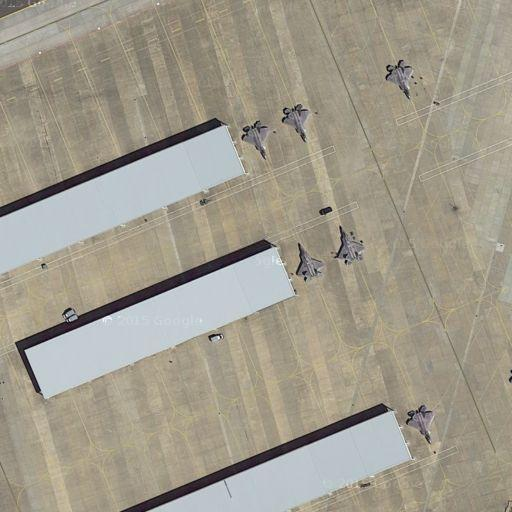F-22: (380, 57, 419, 102), (292, 239, 327, 283), (403, 403, 437, 447), (334, 224, 367, 269), (238, 119, 275, 159), (279, 101, 313, 144)
